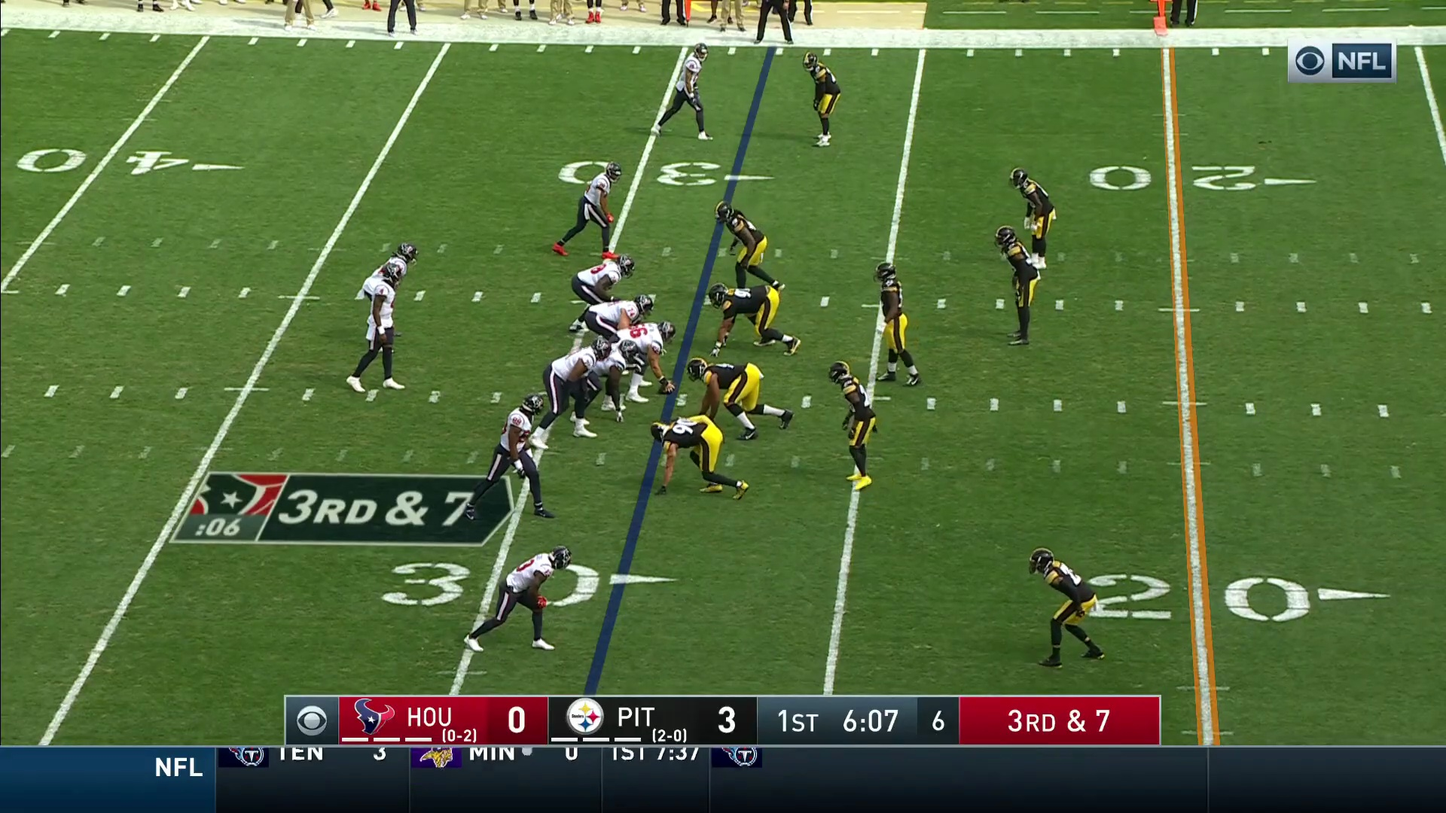Player: (654, 417, 723, 491), (544, 342, 602, 429), (707, 283, 783, 347), (572, 335, 627, 418), (613, 322, 665, 393), (585, 296, 651, 349), (573, 252, 631, 305)
